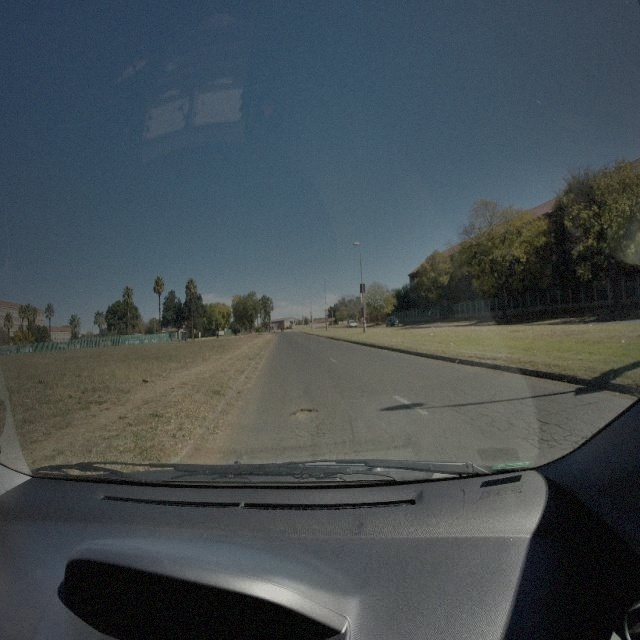pothole: (289, 405, 318, 420)
